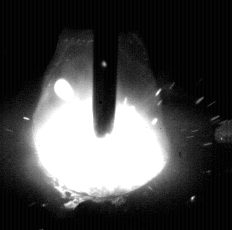arame: (94, 0, 117, 138)
poca: (32, 0, 171, 230)
